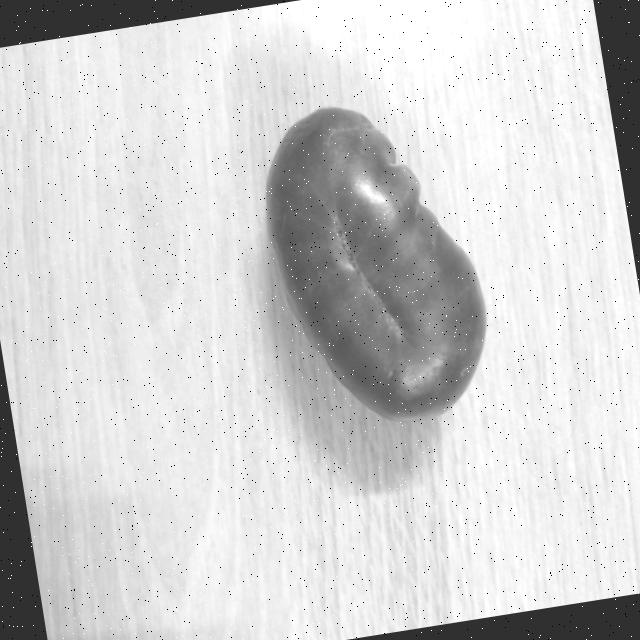Tomato: (245, 80, 504, 443)
